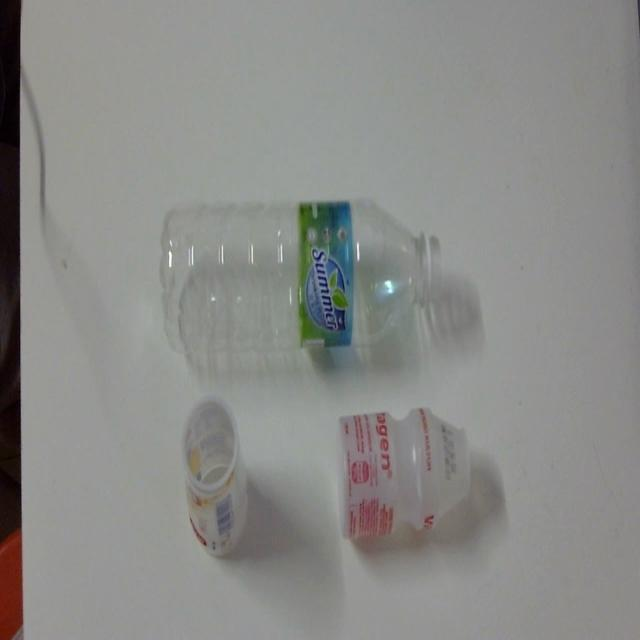plastic_laydown_0rotation: (158, 187, 448, 365), (333, 401, 477, 555)
plastic_standrotation: (174, 389, 264, 572)
